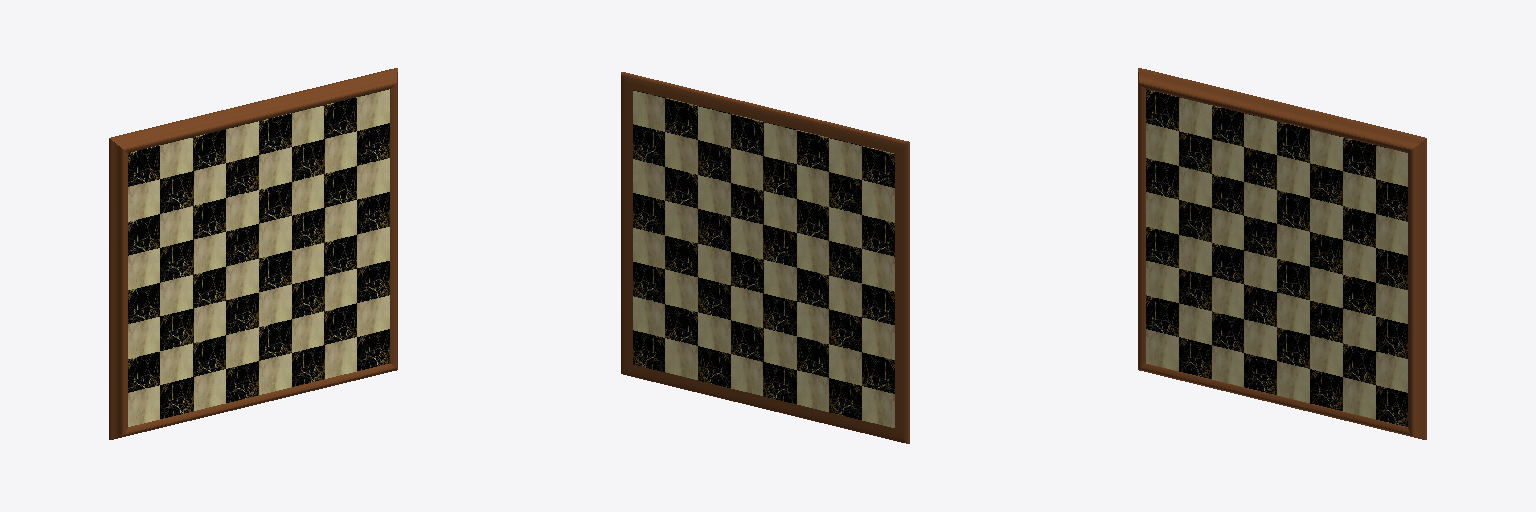
3 renders of one model, left to right at view 1: azimuth 30°, elevation 25°; view 2: azimuth 150°, elevation 25°; view 3: azimuth 330°, elevation 25°, orthographic.
Parts seen in each view (by area): view 1: Object.1; view 2: Object.1; view 3: Object.1.
Boxes of the visible parts, box(x1,y1,x2,y2) form: Object.1: box(109, 68, 397, 439); Object.1: box(621, 72, 909, 443); Object.1: box(1138, 68, 1426, 439).
Size of the model in its own units: 446 by 446 by 22.69.
Materials: 2 (1 with a texture image).